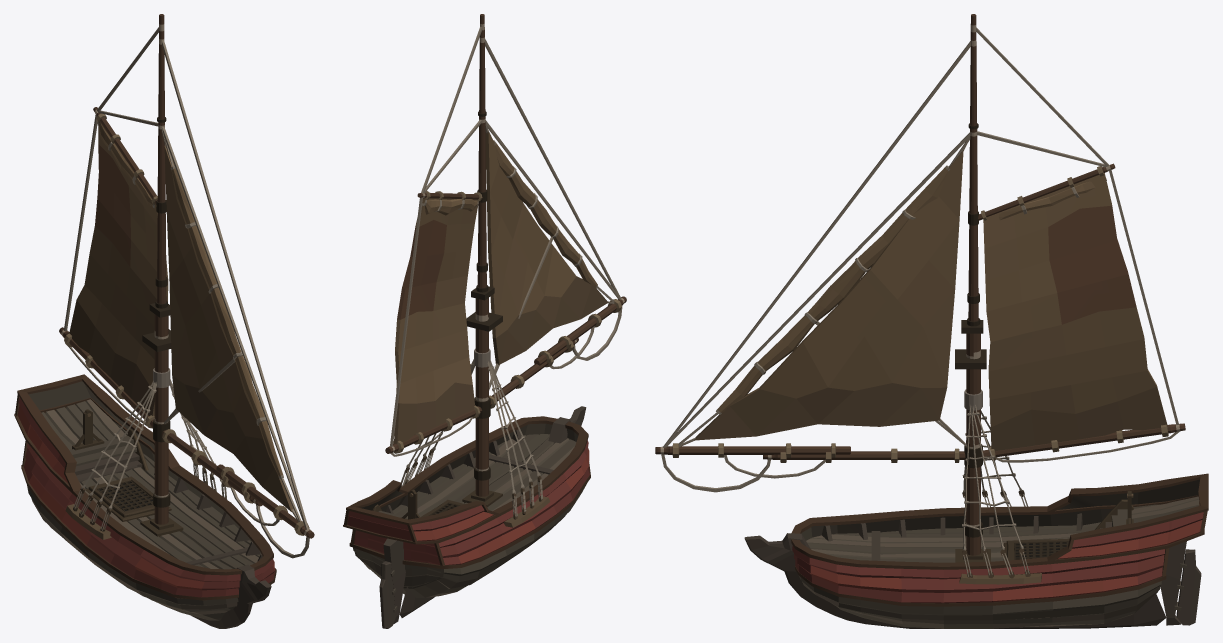
Rendered from SM_Veh_Boat_Medium_01_Hull_Pirate.glb.
3 renders of one model, left to right at view 1: azimuth 30°, elevation 25°; view 2: azimuth 150°, elevation 25°; view 3: azimuth 270°, elevation 25°, orthographic. The views are drawn at different scales.
Visible parts, largest first — view 1: SM_Veh_Boat_Medium_01_Sails_Up_Pirate; view 2: SM_Veh_Boat_Medium_01_Sails_Up_Pirate; view 3: SM_Veh_Boat_Medium_01_Sails_Up_Pirate.
Boxes of the visible parts, x1,y1,x2,y2 form: SM_Veh_Boat_Medium_01_Sails_Up_Pirate: [14, 14, 314, 628]; SM_Veh_Boat_Medium_01_Sails_Up_Pirate: [343, 14, 626, 628]; SM_Veh_Boat_Medium_01_Sails_Up_Pirate: [655, 14, 1208, 628].
Size of the model in its own units: 0.0507 by 0.2084 by 0.1704.
